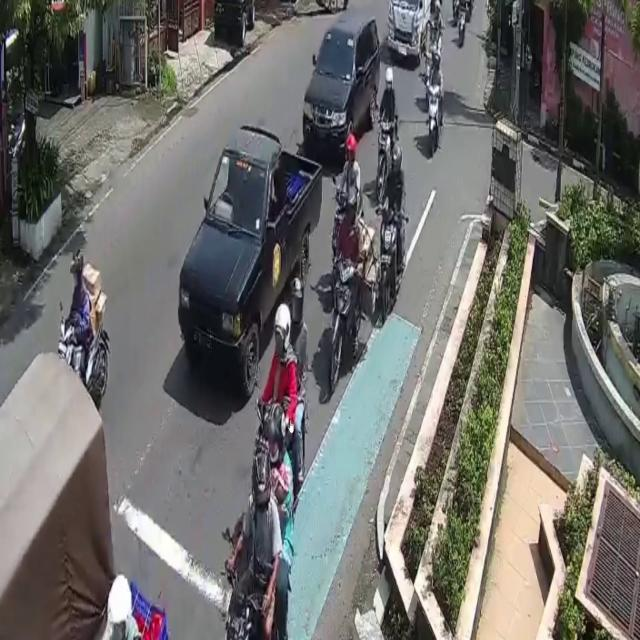bus: (329, 254, 356, 389), (378, 208, 396, 323), (425, 78, 442, 158), (378, 116, 393, 204)
motorcycle: (178, 127, 322, 392), (304, 12, 381, 164)
truck: (386, 0, 431, 63)
